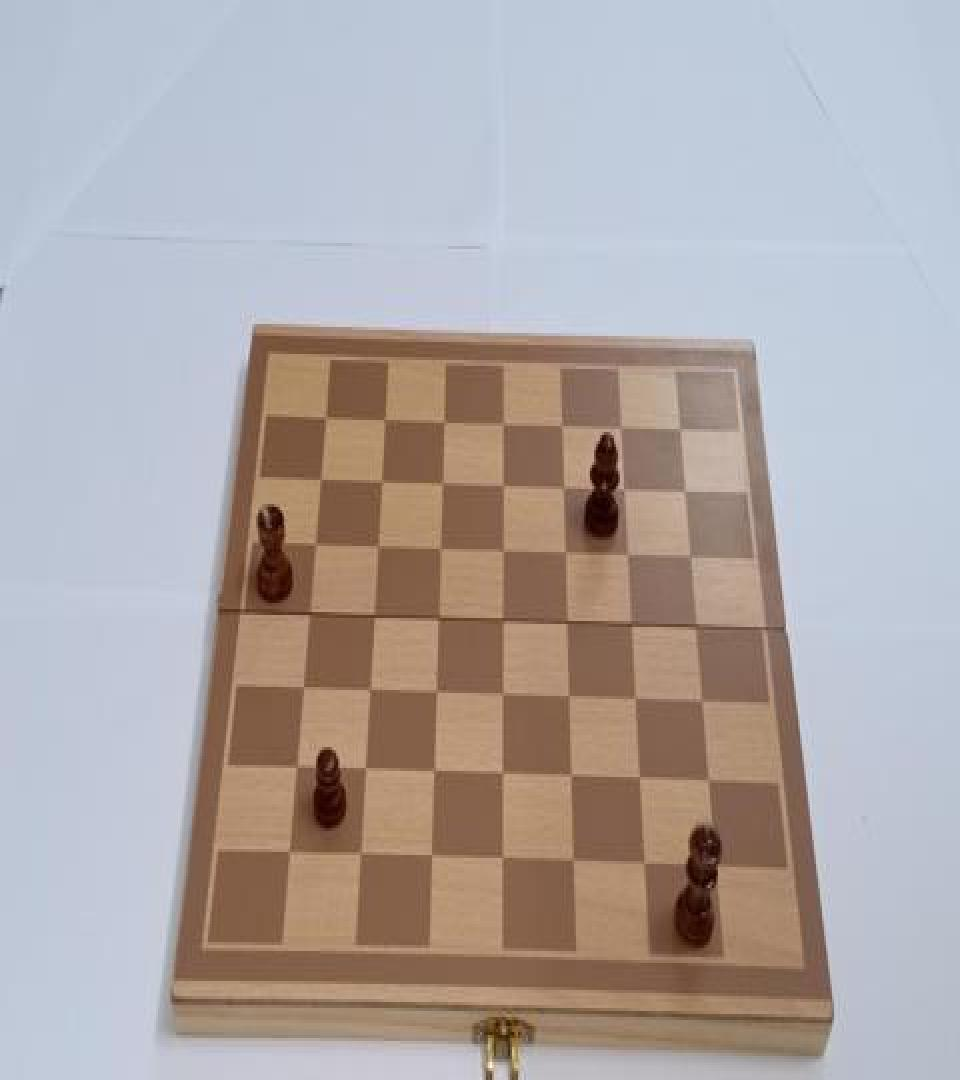xcorner: (432, 406, 450, 434), (612, 412, 630, 440), (313, 404, 331, 431), (308, 465, 326, 492), (303, 532, 321, 559), (297, 603, 315, 630), (291, 676, 309, 703), (285, 756, 303, 783), (373, 405, 391, 432), (369, 468, 387, 495), (366, 534, 384, 561), (362, 604, 380, 631), (354, 759, 372, 786), (350, 844, 368, 871), (431, 470, 449, 497), (427, 606, 445, 633), (426, 681, 444, 708), (424, 762, 442, 789), (421, 846, 439, 873), (492, 408, 510, 435), (492, 471, 510, 498), (492, 538, 510, 565), (493, 609, 511, 636), (493, 684, 511, 711), (493, 849, 511, 876), (552, 411, 570, 438), (554, 474, 572, 501), (556, 540, 574, 567), (558, 610, 576, 637), (562, 766, 580, 793), (565, 852, 583, 879), (627, 689, 645, 716), (632, 768, 650, 795), (672, 414, 690, 441), (677, 477, 695, 504), (683, 545, 701, 572), (688, 615, 706, 642), (695, 690, 713, 717), (701, 771, 719, 798), (708, 857, 726, 884), (278, 842, 296, 868), (358, 680, 376, 706), (429, 536, 447, 562), (493, 764, 511, 790), (560, 686, 578, 712), (615, 476, 633, 502), (619, 542, 637, 568), (623, 614, 641, 640), (637, 854, 655, 880)
